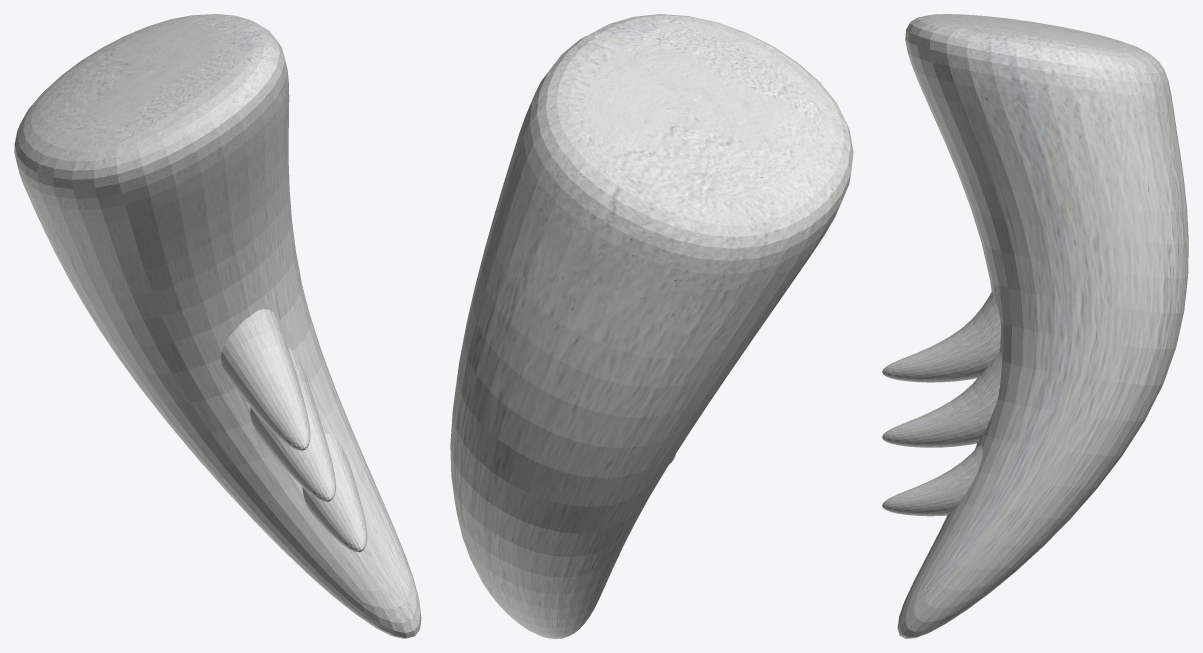
Rendered from cara3.obj.
The picture shows the model from 3 angles, left to right: view 1: azimuth 30°, elevation 25°; view 2: azimuth 150°, elevation 25°; view 3: azimuth 270°, elevation 25°; orthographic projection. The views are drawn at different scales.
Visible parts, largest first — view 1: colmillo2, colmillo.002; view 2: colmillo2; view 3: colmillo2, colmillo.002.
Boxes of the visible parts, <box> form: colmillo2: <box>14,14,421,638</box>; colmillo.002: <box>220,309,367,552</box>; colmillo2: <box>450,14,853,638</box>; colmillo2: <box>897,14,1188,638</box>; colmillo.002: <box>882,292,1002,516</box>.
Bounding box in the file's own units: 0.9392 × 1.64 × 0.8224.
1 material, 1 textured.
